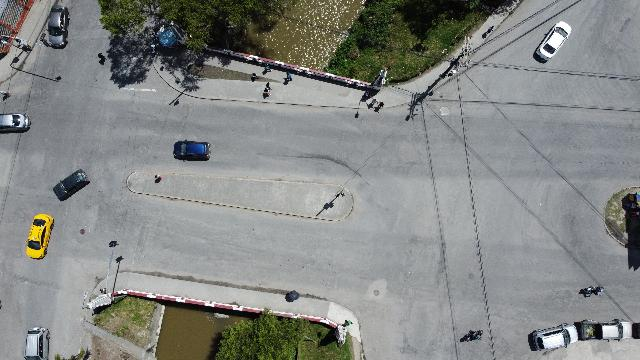Vehiculo: (536, 22, 572, 61), (532, 322, 578, 352), (580, 316, 632, 342), (26, 213, 54, 259), (52, 169, 90, 201), (23, 324, 51, 360), (48, 5, 70, 48), (173, 140, 210, 162), (0, 114, 30, 132)
